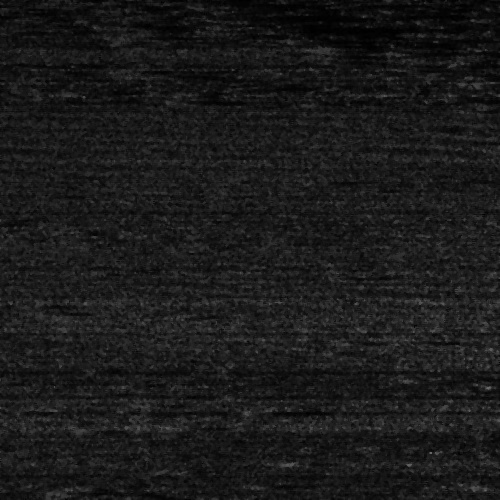object: (176, 12, 259, 19), (452, 78, 500, 87), (207, 408, 260, 413)
shadow: (217, 12, 371, 19), (234, 408, 292, 413)
